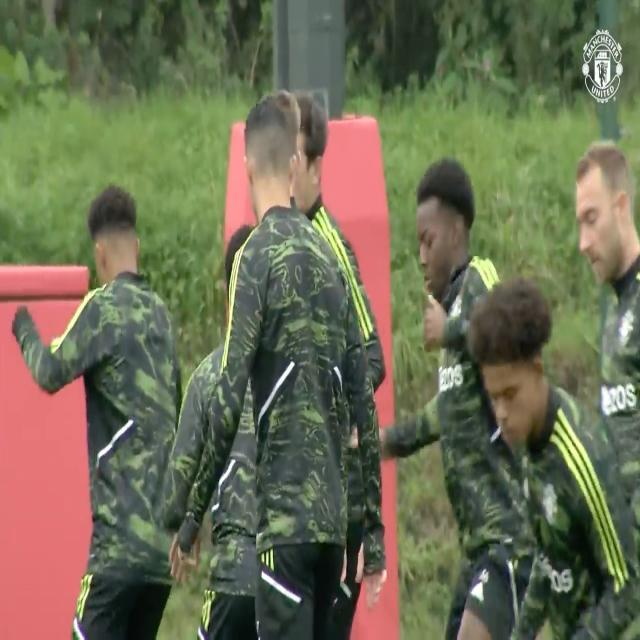Adidas: (472, 583, 484, 600)
